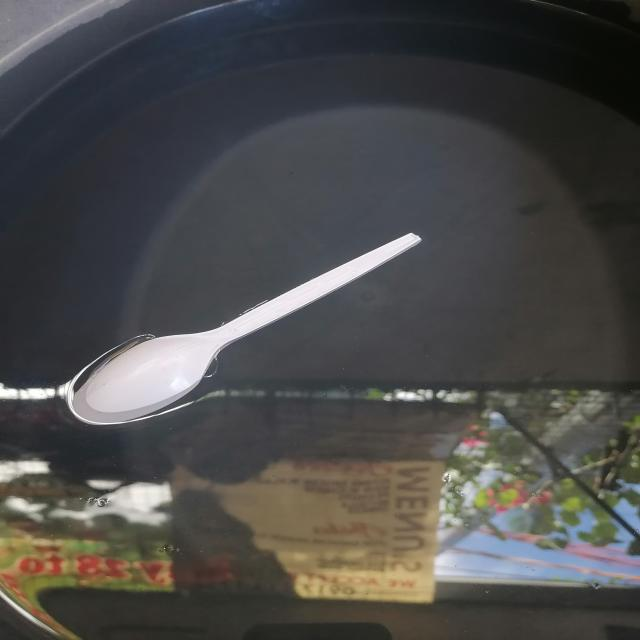Plastic Spoon: (51, 209, 457, 436)
